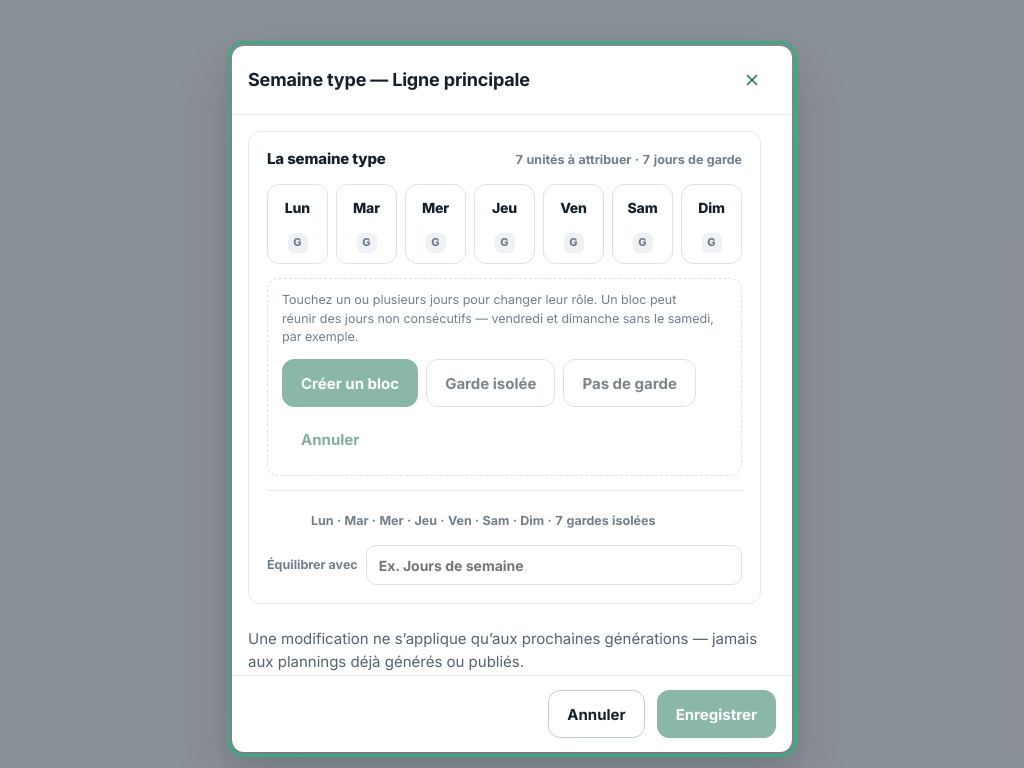
WeekStructureModal › keeps the dialog open and shows an error when saving fails
Check: the element named "Jours de la semaine" is shown, box [267, 184, 742, 264]
Click the button with aria-label "Lundi" at point(298, 224), box [267, 184, 328, 264]
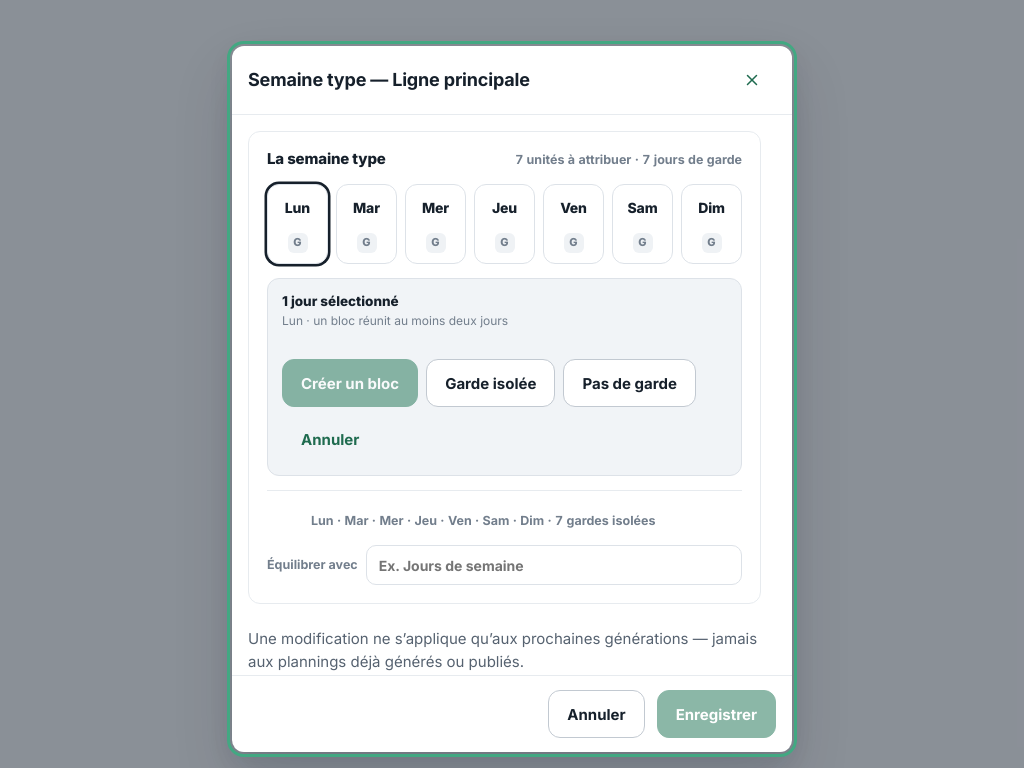
Click the button "Pas de garde" at point(630, 383), box [563, 359, 696, 407]
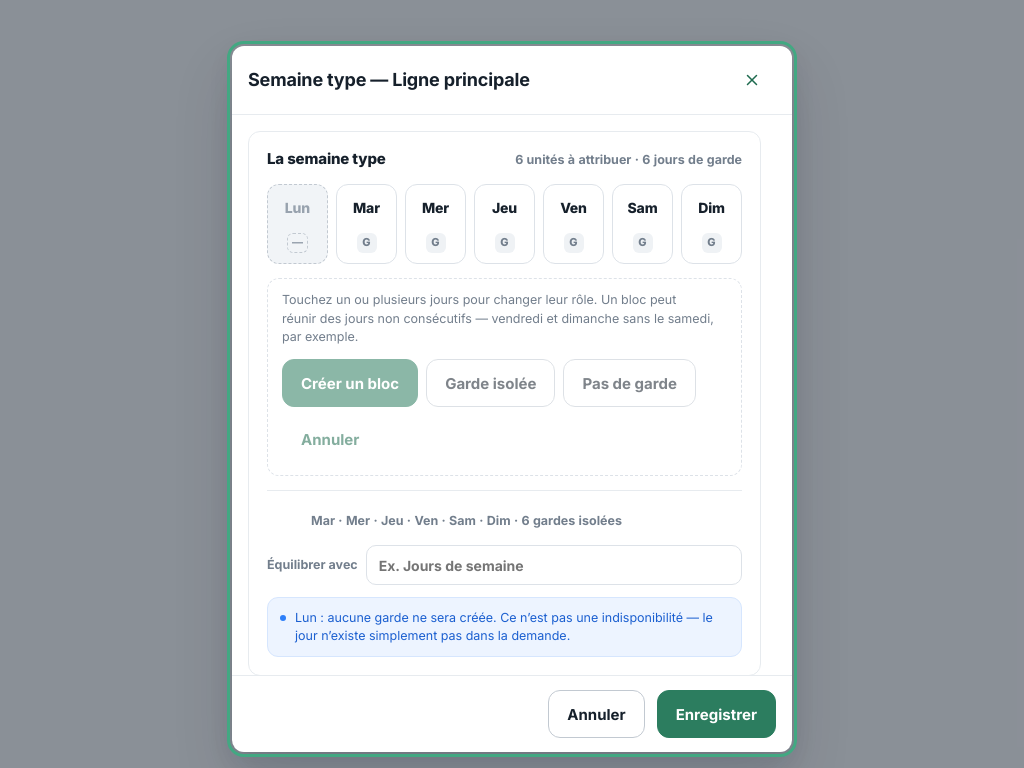
Click the button "Enregistrer" at point(716, 714), box [657, 690, 776, 738]
(page scrolled)
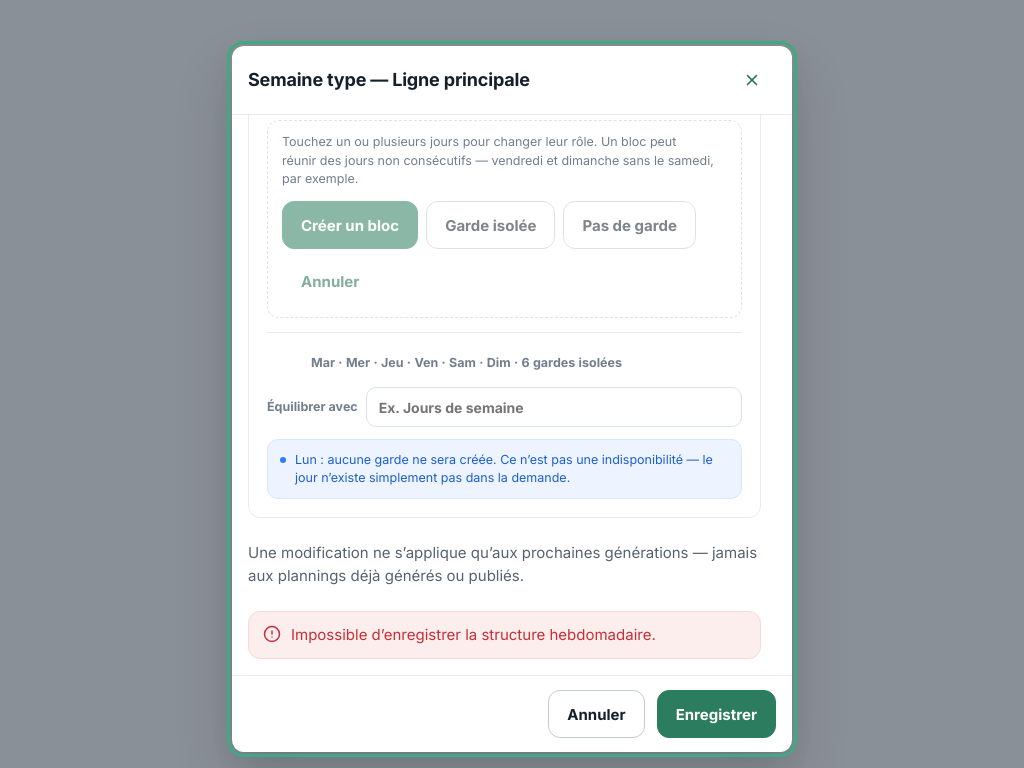
Check: the message shows "Impossible d’enregistrer", box [291, 625, 656, 644]
